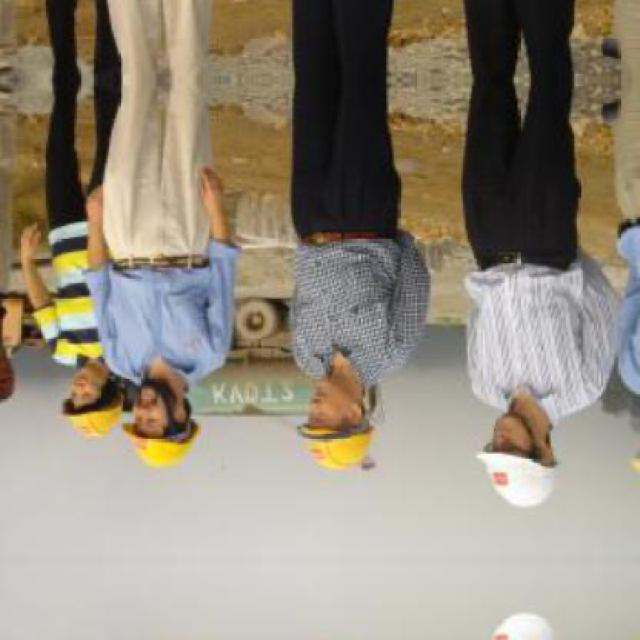con casco: (295, 348, 430, 478), (110, 358, 223, 474), (464, 439, 543, 530), (41, 370, 110, 443)
